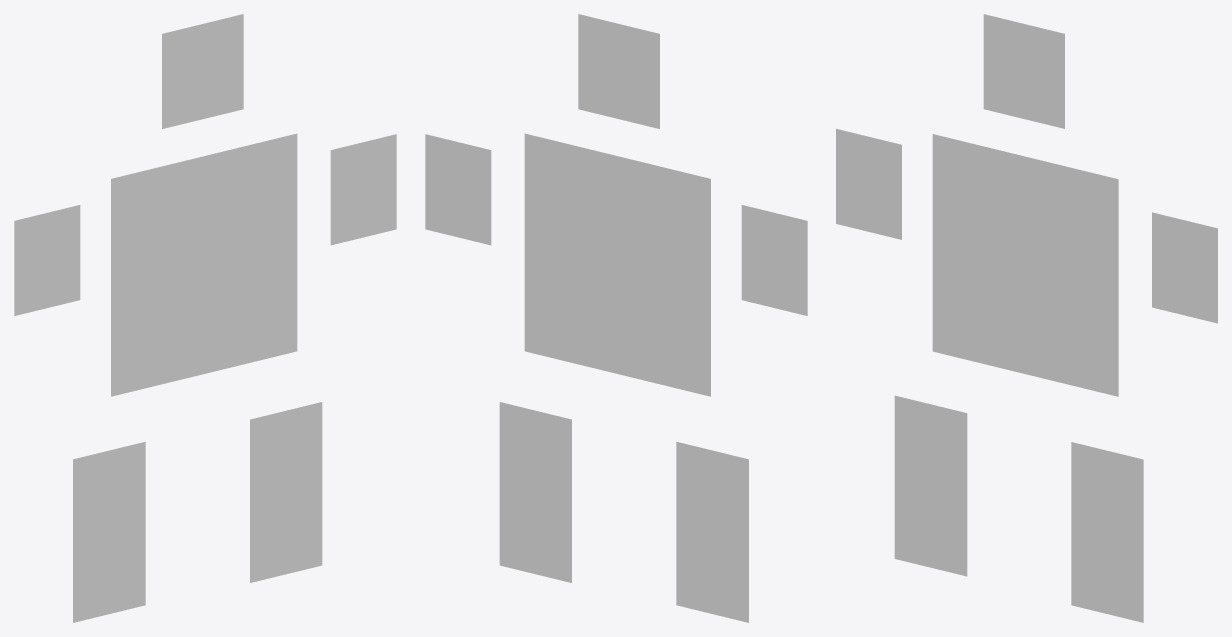
The model's file is button-type1.glb.
3 renders of one model, left to right at view 1: azimuth 30°, elevation 25°; view 2: azimuth 150°, elevation 25°; view 3: azimuth 330°, elevation 25°, orthographic.
Parts seen in each view (by area): view 1: symbol-minion; view 2: symbol-minion; view 3: symbol-minion.
Part boxes in pixels (x1=…): symbol-minion: x1=14, y1=14, x2=396, y2=622; symbol-minion: x1=425, y1=14, x2=807, y2=622; symbol-minion: x1=836, y1=14, x2=1217, y2=622.
Bounding box in the file's own units: 0.6234 × 0.8892 × 1.12e-07.
1 material, 1 textured.
